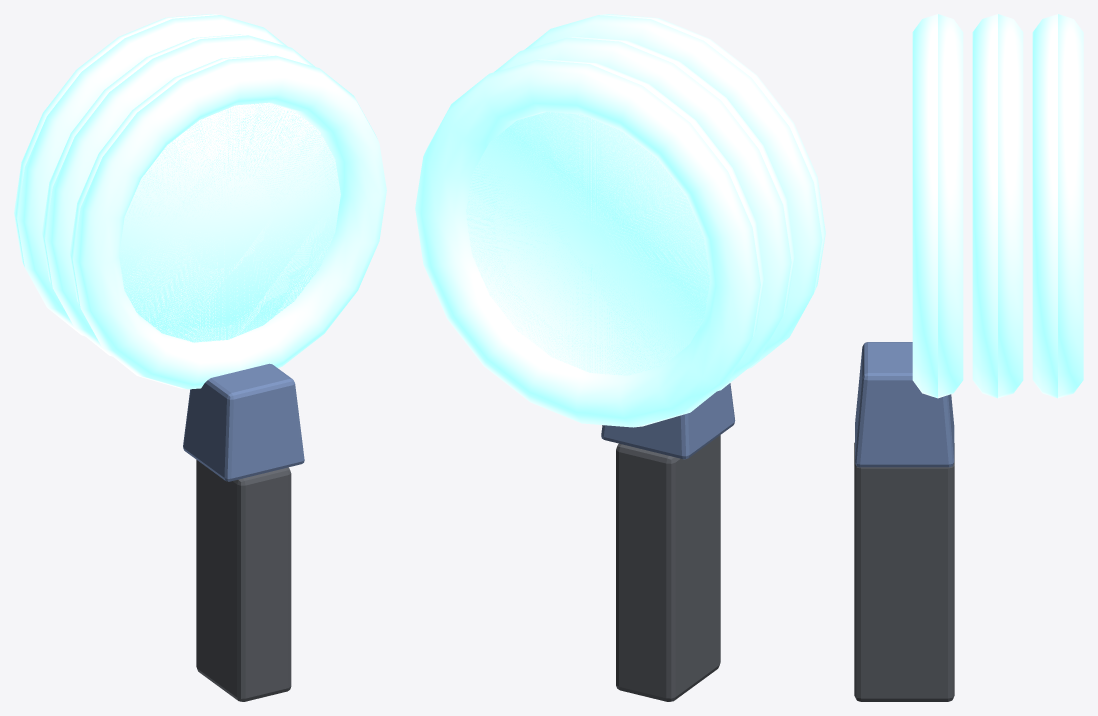
File: weapon_whip_beam_coiled.glb
3 views of the same model, side by side, from view 1: azimuth 30°, elevation 25°; view 2: azimuth 150°, elevation 25°; view 3: azimuth 270°, elevation 25° (orthographic). The views are drawn at different scales.
Parts seen in each view (by area): view 1: coil, grip, coil.001, coil.002, emitter; view 2: coil.002, grip, coil, coil.001, emitter; view 3: grip, coil.002, coil.001, coil, emitter.
Part boxes in pixels (bbox=[...]): coil: bbox=[69, 54, 386, 389]; grip: bbox=[196, 460, 291, 701]; coil.001: bbox=[42, 34, 314, 356]; coil.002: bbox=[14, 14, 287, 335]; emitter: bbox=[183, 363, 304, 481]; coil.002: bbox=[415, 59, 764, 427]; grip: bbox=[616, 435, 720, 701]; coil: bbox=[524, 14, 825, 368]; coil.001: bbox=[494, 36, 794, 391]; emitter: bbox=[601, 383, 735, 459]; grip: bbox=[854, 442, 954, 701]; coil.002: bbox=[1032, 14, 1083, 398]; coil.001: bbox=[972, 14, 1023, 398]; coil: bbox=[912, 14, 963, 398]; emitter: bbox=[855, 342, 954, 467].
Size of the model in its own units: 1.97 by 3.71 by 1.17.
